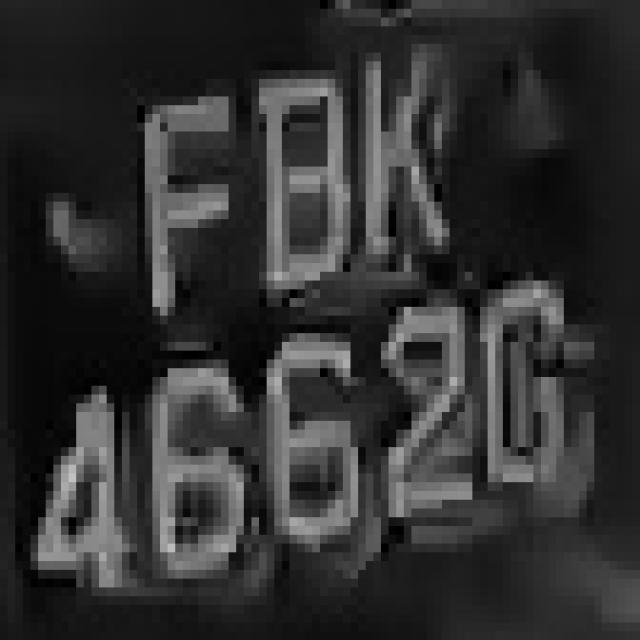2: (358, 316, 472, 534)
4: (15, 351, 137, 631)
6: (122, 342, 274, 605), (251, 307, 404, 561)
B: (244, 52, 358, 316)
F: (130, 52, 236, 316)
G: (465, 255, 579, 518)
K: (358, 27, 472, 290)
